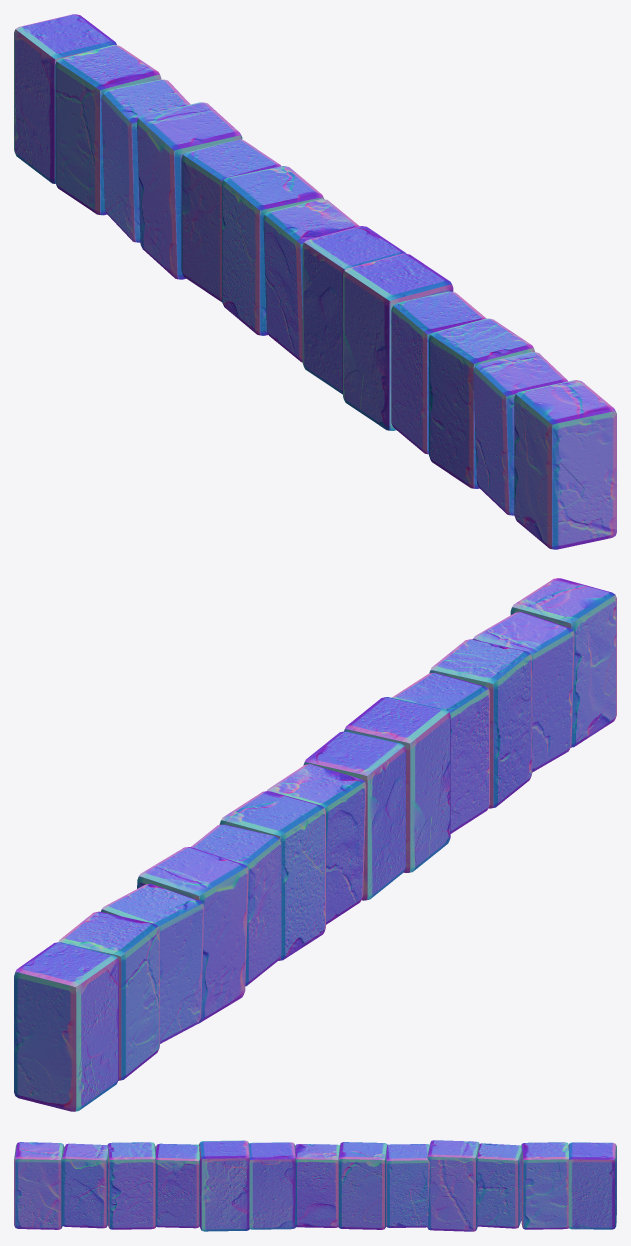
The model's file is Dungeon_FloorLedge.fbx.
3 renders of one model, top to bottom at view 1: azimuth 30°, elevation 25°; view 2: azimuth 150°, elevation 25°; view 3: azimuth 270°, elevation 25°, orthographic. The views are drawn at different scales.
Parts seen in each view (by area): view 1: MeshHP; view 2: MeshHP; view 3: MeshHP.
Part boxes in pixels (x1,y1,x2,y2): MeshHP: (14, 14, 616, 549); MeshHP: (14, 578, 616, 1111); MeshHP: (14, 1140, 616, 1231).
Bounding box in the file's own units: 0.3671 × 0.6147 × 4.42.
Materials: 1 (1 with a texture image).
